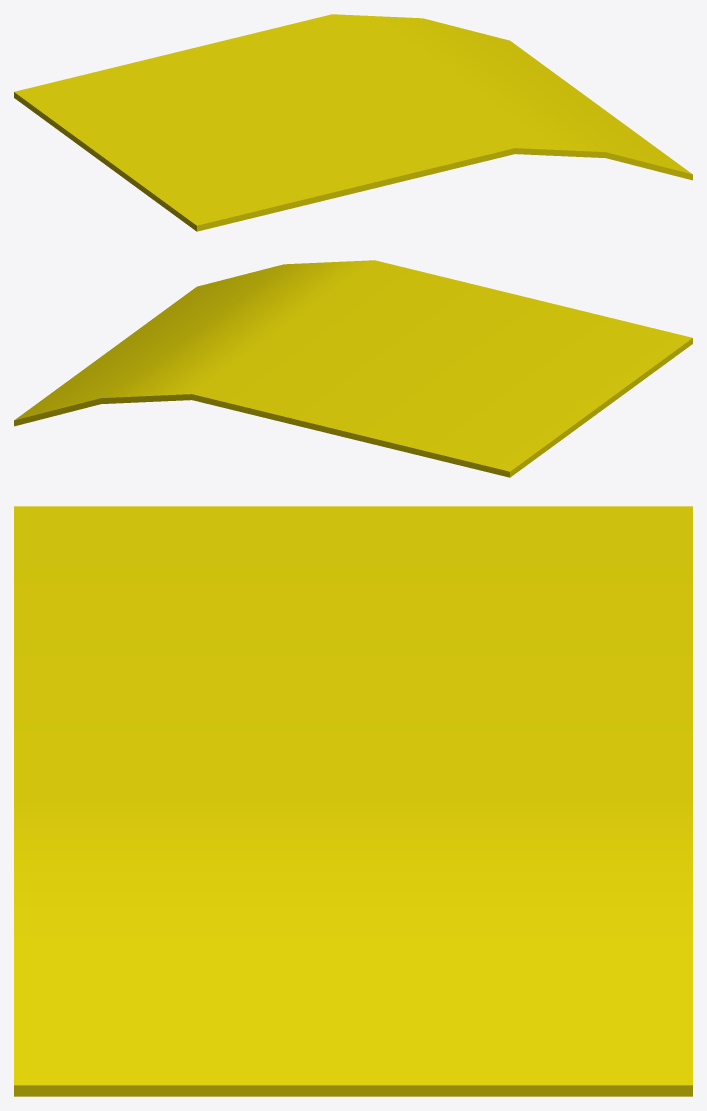
File: Mdl_Vagon_Barras5.fbx
3 views of the same model, one above another, from view 1: azimuth 30°, elevation 25°; view 2: azimuth 150°, elevation 25°; view 3: azimuth 270°, elevation 25° (orthographic). The views are drawn at different scales.
Parts seen in each view (by area): view 1: Mdl_Vagon_Barras5; view 2: Mdl_Vagon_Barras5; view 3: Mdl_Vagon_Barras5.
Boxes of the visible parts, x1=… form: Mdl_Vagon_Barras5: x1=14, y1=14, x2=692, y2=231; Mdl_Vagon_Barras5: x1=14, y1=260, x2=692, y2=477; Mdl_Vagon_Barras5: x1=14, y1=506, x2=692, y2=1096.
Bounding box in the file's own units: 9.99 × 1.46 × 6.38.
